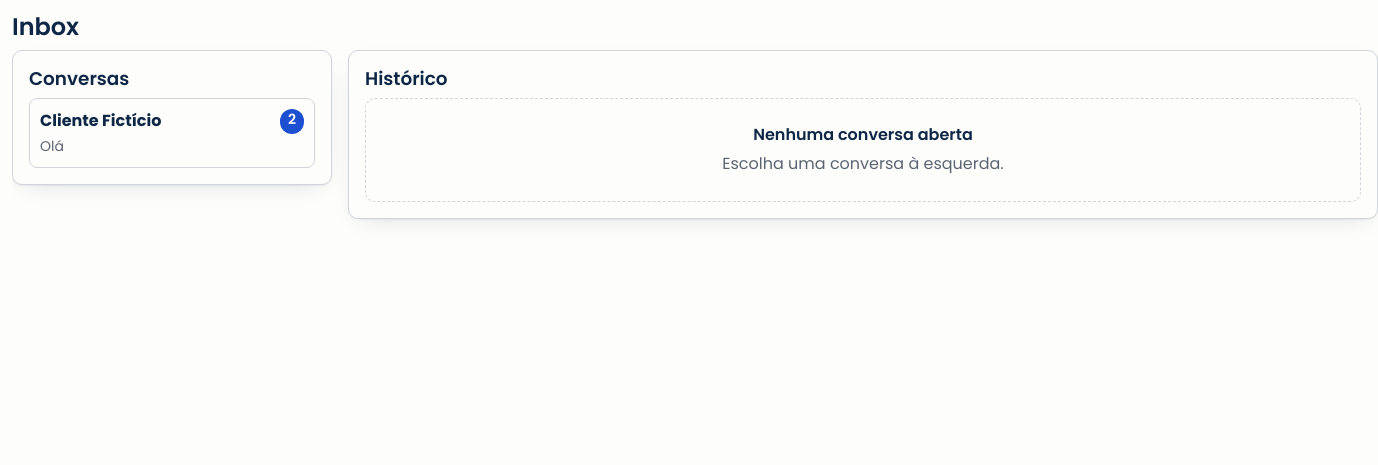
TELA 3 — Inbox › sugestão do agente é exibida com ação humana explícita — nunca enviada sozinha
Click the button "Cliente Fictício 2 Olá" at {"x": 101, "y": 120}, box [29, 98, 315, 168]
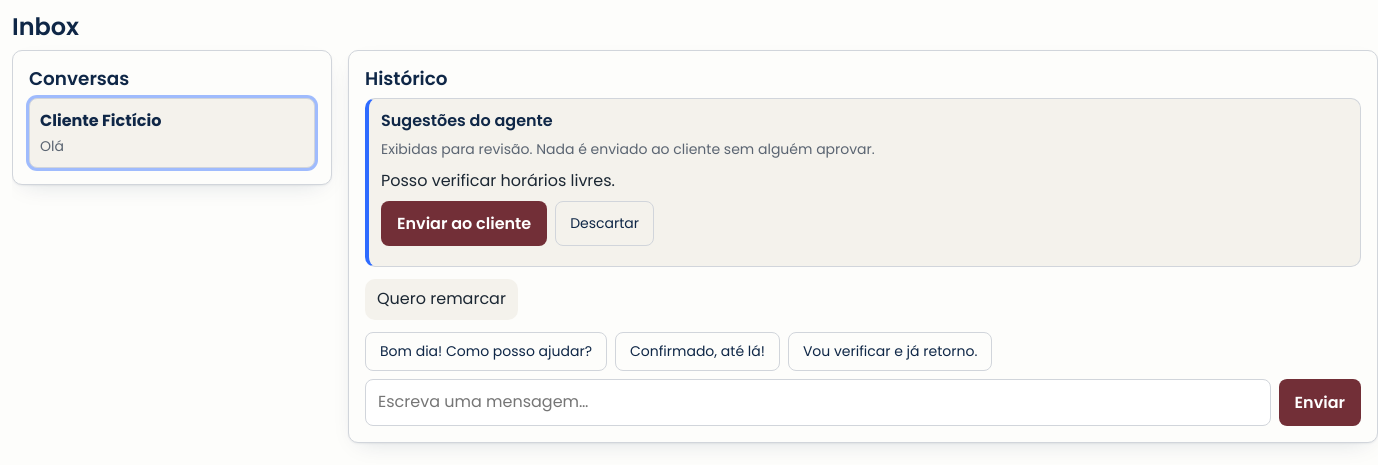
Now the text "Posso verificar horários livres." is shown, box [381, 169, 615, 192]
Now the button "Enviar ao cliente" is shown, box [381, 202, 547, 246]
